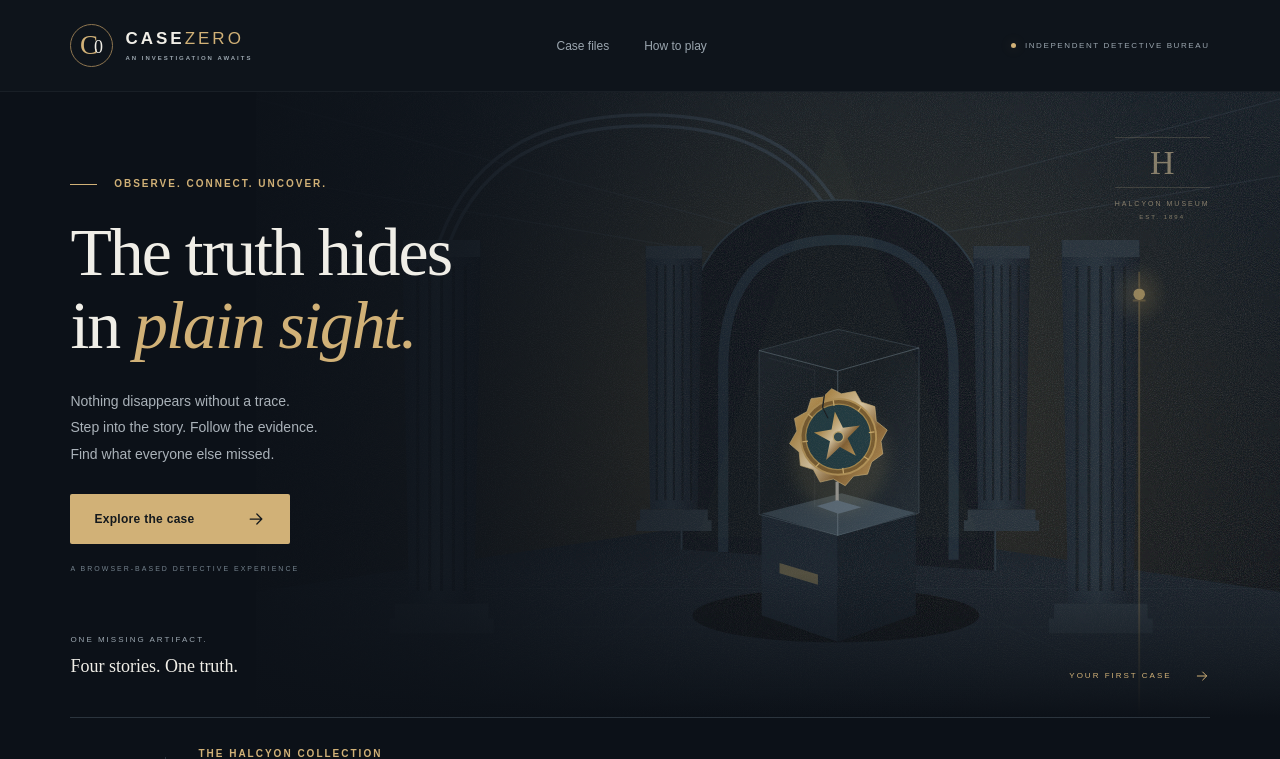
Test: entry and investigation navigation › opens a focus-managed guide and supports Escape
The image size is (1280, 759).
Step 1. Click the button "How to play" → click(676, 46), box [644, 28, 707, 62]
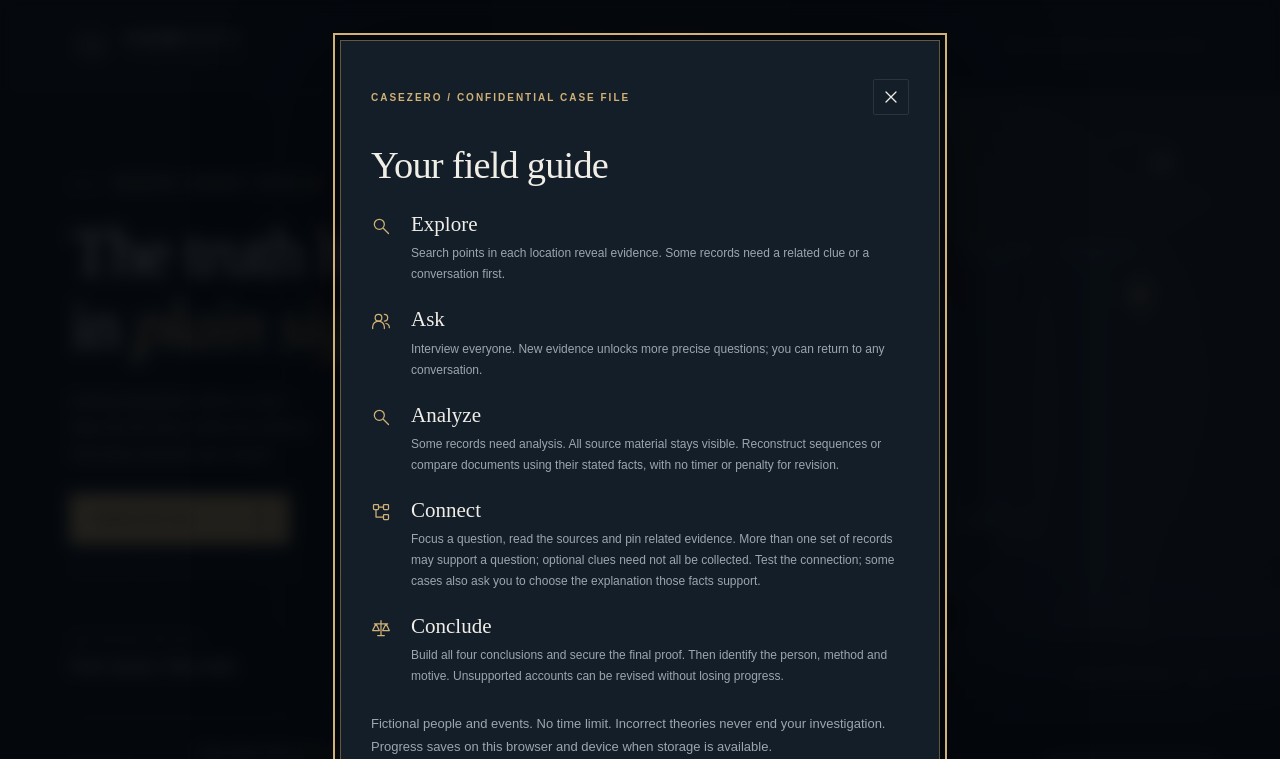
Step 2. Press Escape
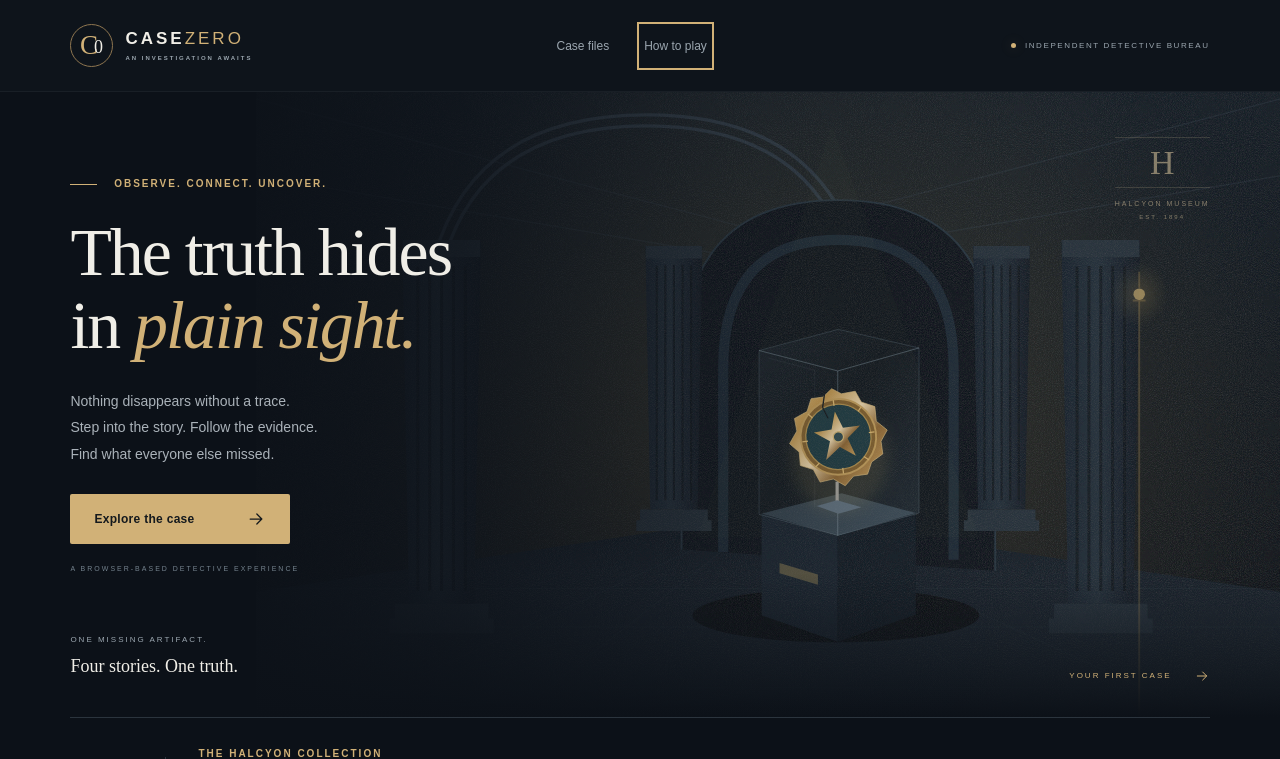
Result: the dialog is gone
